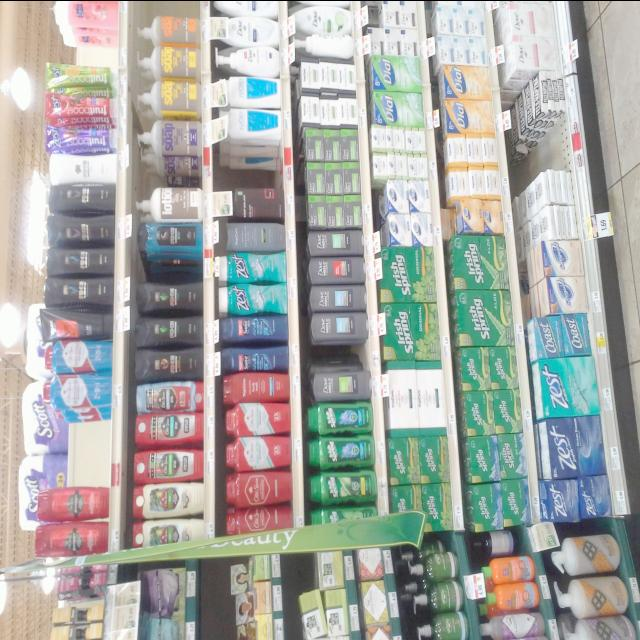empty_space: (223, 156, 279, 185), (314, 337, 367, 367), (518, 138, 570, 166)
